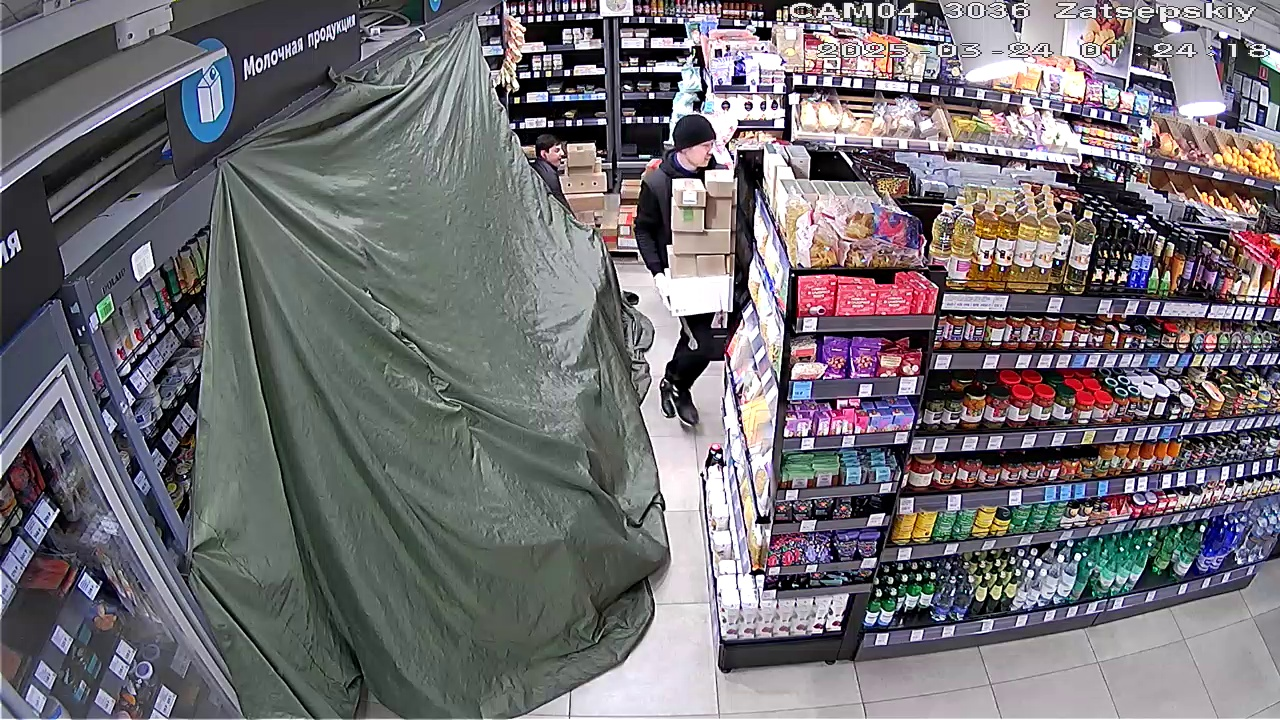Human: (627, 109, 748, 432), (528, 130, 569, 210)
dome: (224, 111, 656, 699)
